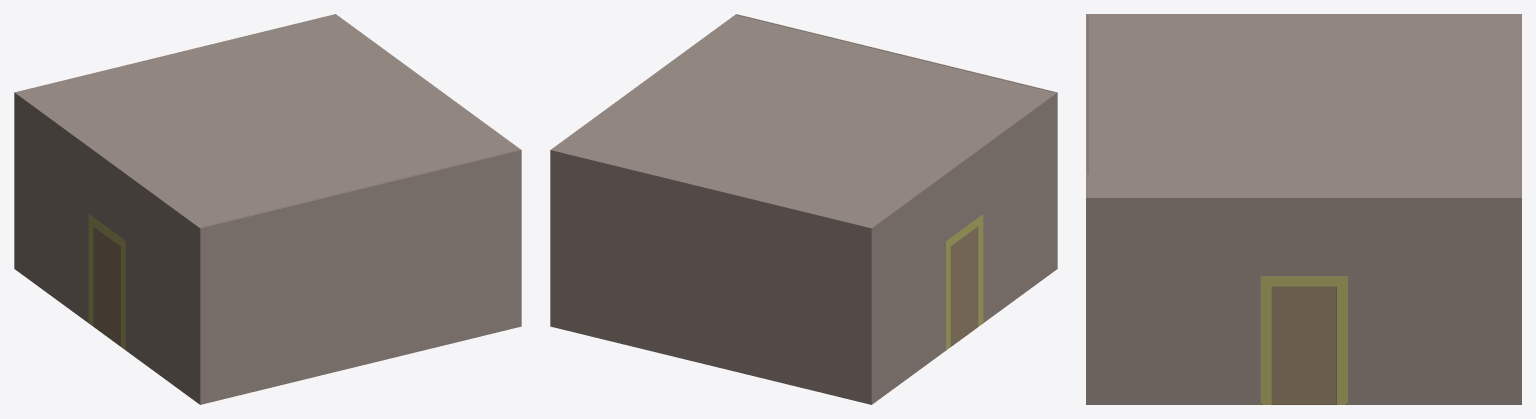
File: Room43_Tower.fbx
3 views of the same model, side by side, from view 1: azimuth 30°, elevation 25°; view 2: azimuth 150°, elevation 25°; view 3: azimuth 270°, elevation 25° (orthographic). The views are drawn at different scales.
Parts seen in each view (by area): view 1: Roof, WallPosZ, WallSlicedPosX, DoorPosX, DoorFramePosX, WallNegZ; view 2: Roof, WallNegZ, WallSlicedPosX, DoorPosX, DoorFramePosX, WallPosZ, WallSlicedNegX; view 3: Roof, WallSlicedNegX, DoorNegX, DoorFrameNegX, WallSlicedPosX, WallPosZ, WallNegZ.
Boxes of the visible parts, left/top/right/bottom form: Roof: left=17, top=15, right=519, bottom=227; WallPosZ: left=199, top=150, right=521, bottom=404; WallSlicedPosX: left=14, top=92, right=200, bottom=404; DoorPosX: left=93, top=226, right=120, bottom=346; DoorFramePosX: left=88, top=214, right=125, bottom=349; WallNegZ: left=14, top=14, right=335, bottom=265; Roof: left=552, top=15, right=1054, bottom=227; WallNegZ: left=550, top=150, right=872, bottom=404; WallSlicedPosX: left=869, top=92, right=1057, bottom=404; DoorPosX: left=950, top=226, right=978, bottom=346; DoorFramePosX: left=946, top=214, right=983, bottom=349; WallPosZ: left=736, top=14, right=1057, bottom=268; WallSlicedNegX: left=550, top=14, right=736, bottom=326; Roof: left=1088, top=14, right=1520, bottom=197; WallSlicedNegX: left=1086, top=197, right=1521, bottom=404; DoorNegX: left=1271, top=286, right=1336, bottom=404; DoorFrameNegX: left=1260, top=276, right=1347, bottom=404; WallSlicedPosX: left=1086, top=14, right=1521, bottom=174; WallPosZ: left=1086, top=14, right=1088, bottom=404; WallNegZ: left=1519, top=14, right=1521, bottom=403.
Bounding box in the file's own units: 100 × 52.5 × 100.
